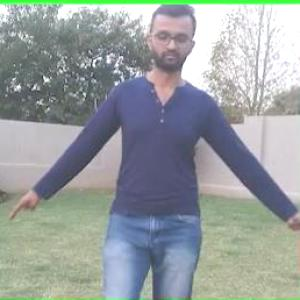land: (10, 17, 299, 299)
